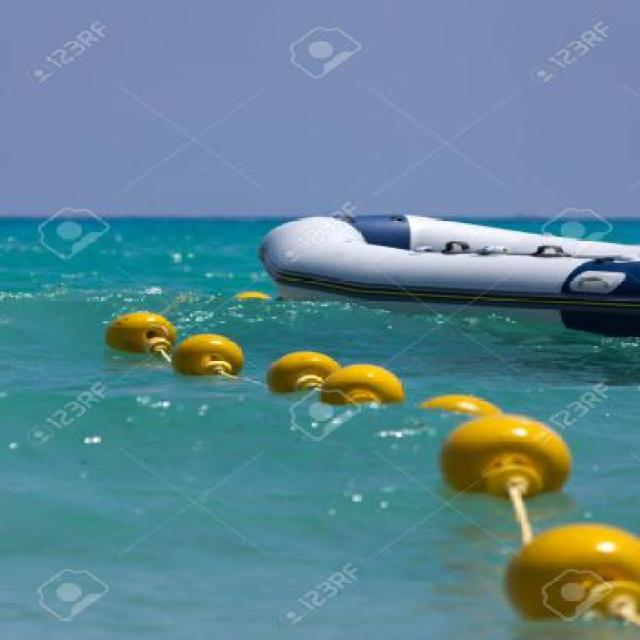a: (236, 194, 640, 314), (410, 401, 604, 506), (504, 526, 640, 631), (95, 298, 190, 367), (154, 326, 251, 388), (314, 363, 413, 417), (260, 346, 344, 404), (422, 390, 513, 429)
